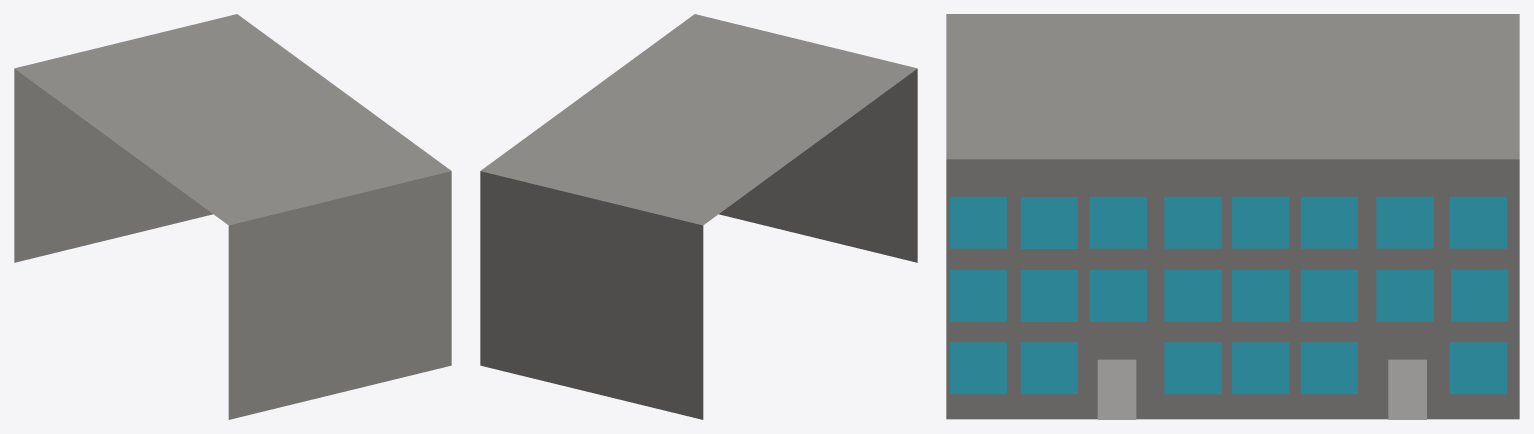
The model's file is WideBuilding.glb.
3 views of the same model, side by side, from view 1: azimuth 30°, elevation 25°; view 2: azimuth 150°, elevation 25°; view 3: azimuth 270°, elevation 25° (orthographic). The views are drawn at different scales.
Parts seen in each view (by area): view 1: Base; view 2: Base; view 3: Base, Plane.008, Plane.010, Window1, Plane.001, Plane.002, Plane.020, Plane.019, Plane.003, Plane.005, Plane.007, Plane.009 (+13 smaller).
Part boxes in pixels (x1,y1,x2,y2): Base: [14, 14, 451, 419]; Base: [480, 14, 917, 419]; Base: [946, 14, 1519, 419]; Plane.008: [1449, 196, 1507, 248]; Plane.010: [1449, 342, 1507, 394]; Window1: [1164, 342, 1221, 394]; Plane.001: [1164, 269, 1221, 321]; Plane.002: [1164, 196, 1221, 248]; Plane.020: [1376, 269, 1433, 321]; Plane.019: [1376, 196, 1433, 248]; Plane.003: [1089, 196, 1146, 248]; Plane.005: [1089, 269, 1146, 321]; Plane.007: [1451, 269, 1508, 321]; Plane.009: [1300, 342, 1357, 394].
Bounding box in the file's own units: 1.51 × 1.25 × 2.5.
